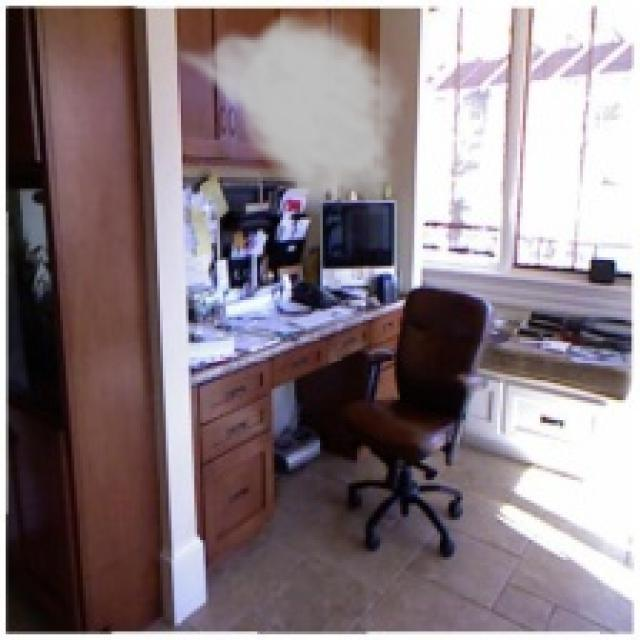Smoke: (162, 6, 408, 218)
